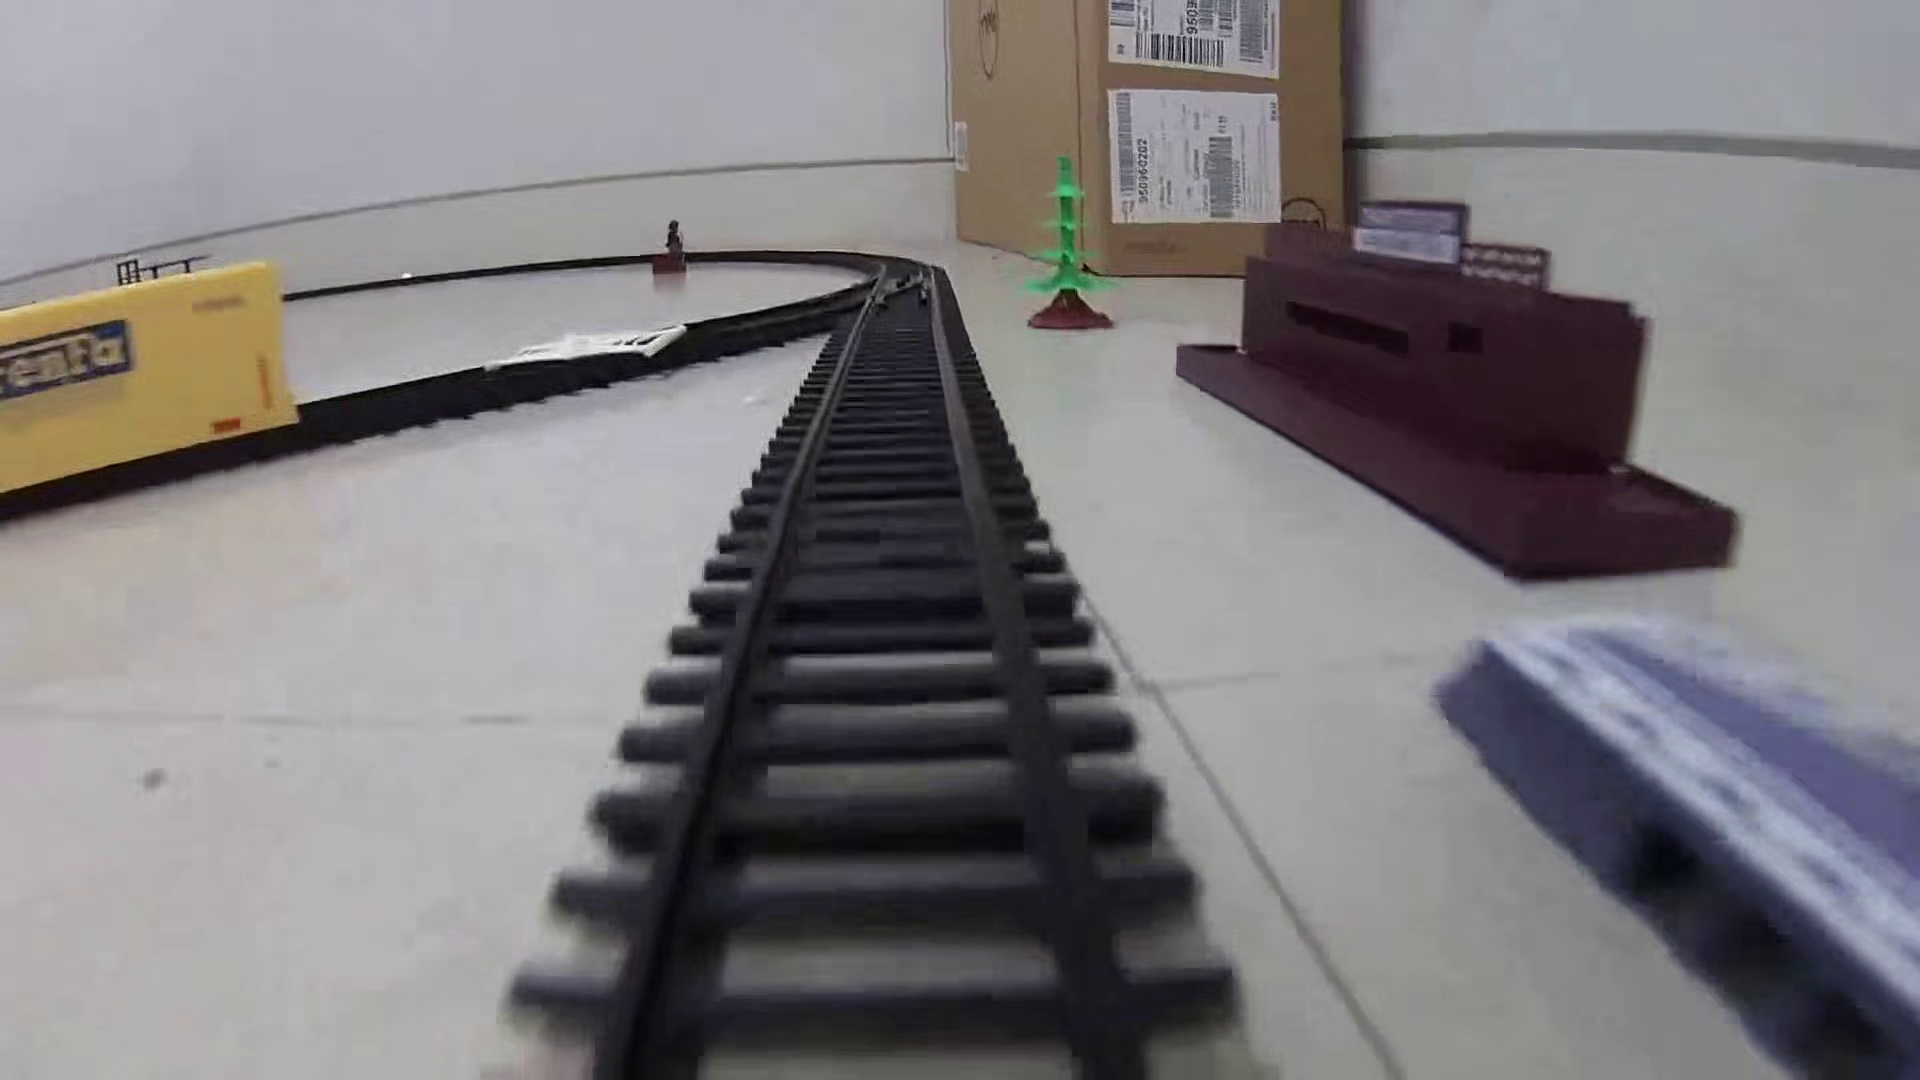people: (659, 214, 687, 266)
tree: (1022, 154, 1117, 336)
web: (482, 318, 691, 375)
